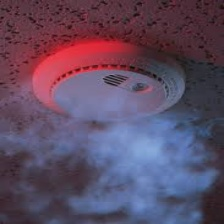smoke: (68, 123, 207, 215)
